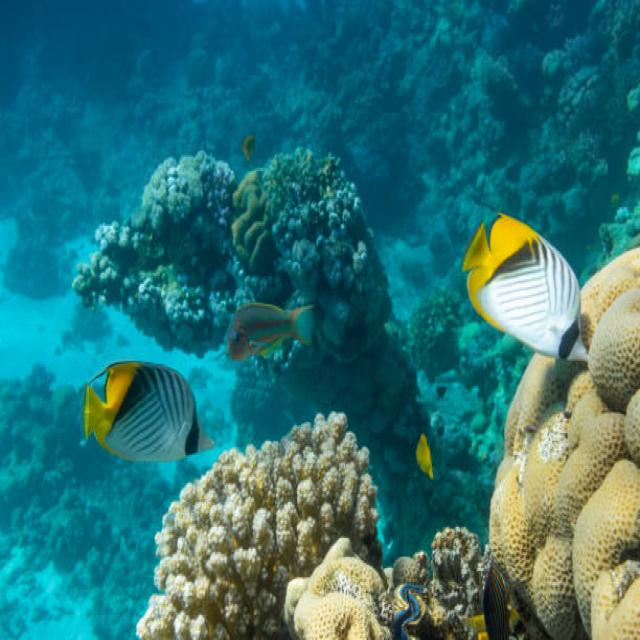ButterflyFish: (451, 206, 590, 372), (79, 352, 205, 459)
